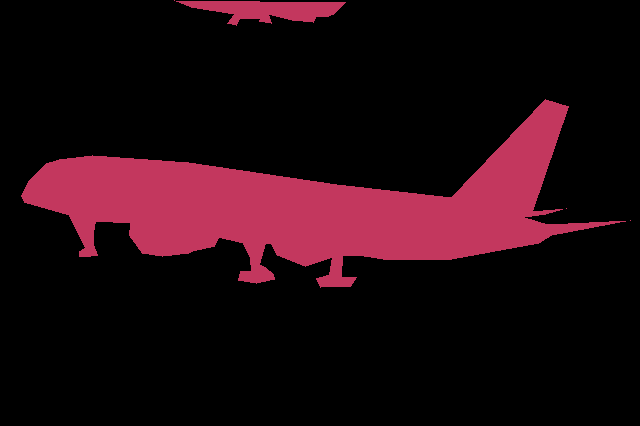Airplane: (21, 99, 631, 288), (174, 0, 345, 25)
